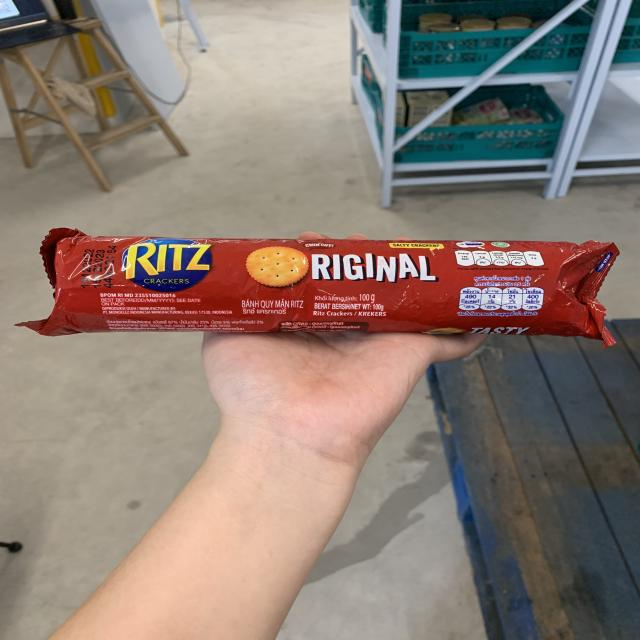object_name: (34, 235, 605, 341)
